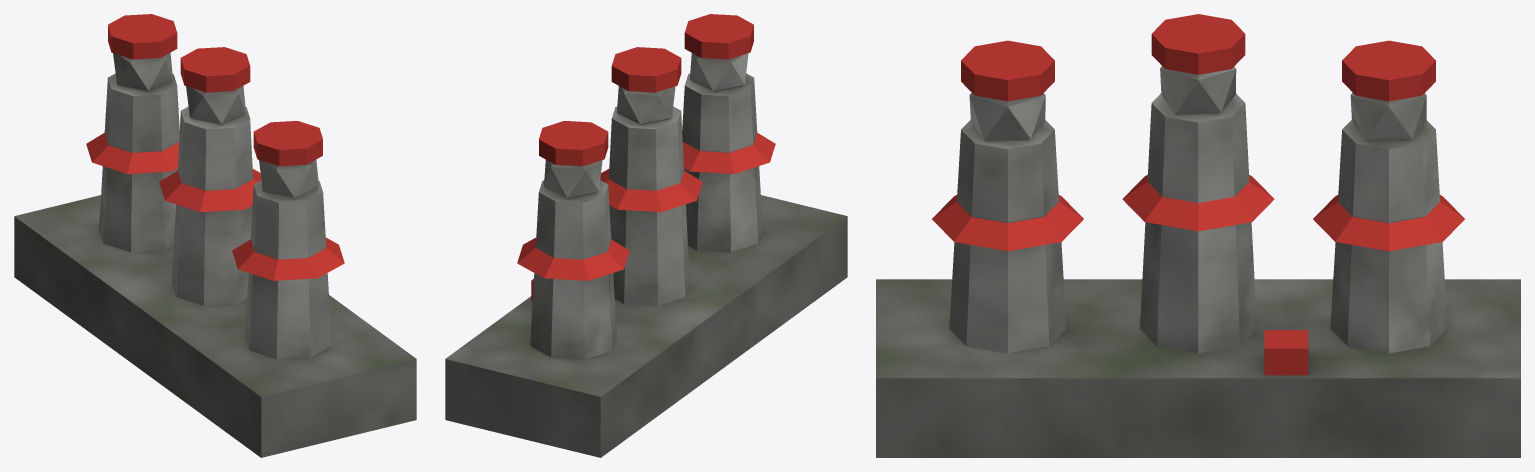
Rendered from jizo_tex.glb.
3 views of the same model, side by side, from view 1: azimuth 30°, elevation 25°; view 2: azimuth 150°, elevation 25°; view 3: azimuth 270°, elevation 25° (orthographic). The views are drawn at different scales.
Parts seen in each view (by area): view 1: jizo; view 2: jizo; view 3: jizo.
Boxes of the visible parts, x1,y1,x2,y2 form: jizo: [14, 14, 416, 457]; jizo: [445, 14, 847, 457]; jizo: [876, 14, 1520, 457].
Size of the model in its own units: 0.8 by 1.41 by 2.2.
3 materials, 2 textured.
